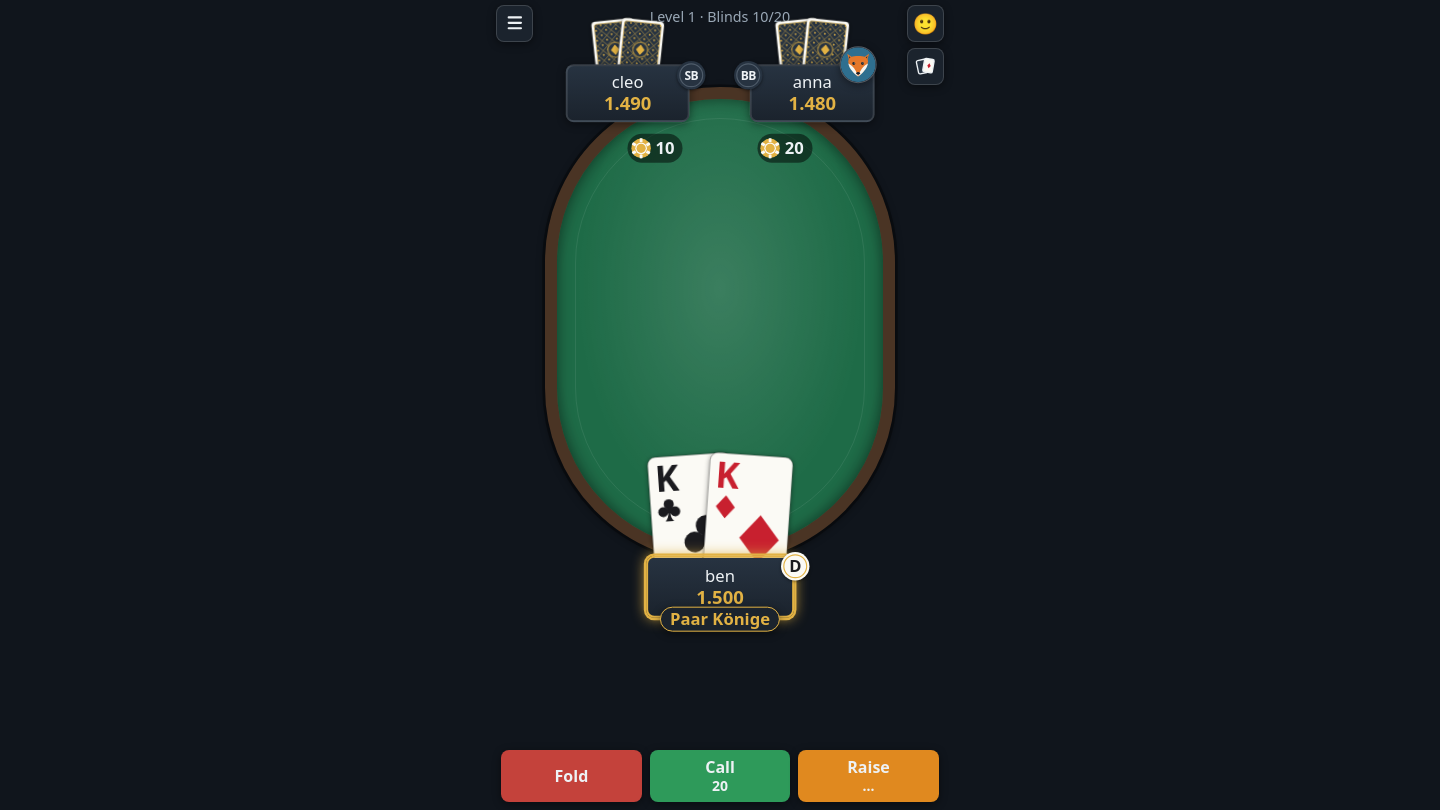
Scenario: GameTable – Avatare und Reaktionen (WP-032) › Sitz zeigt den Avatar; Spieler senden Reaktionen, die über dem Sitz erscheinen
Click the button named "Reaktion senden" at [925, 23], box [907,5,944,42]
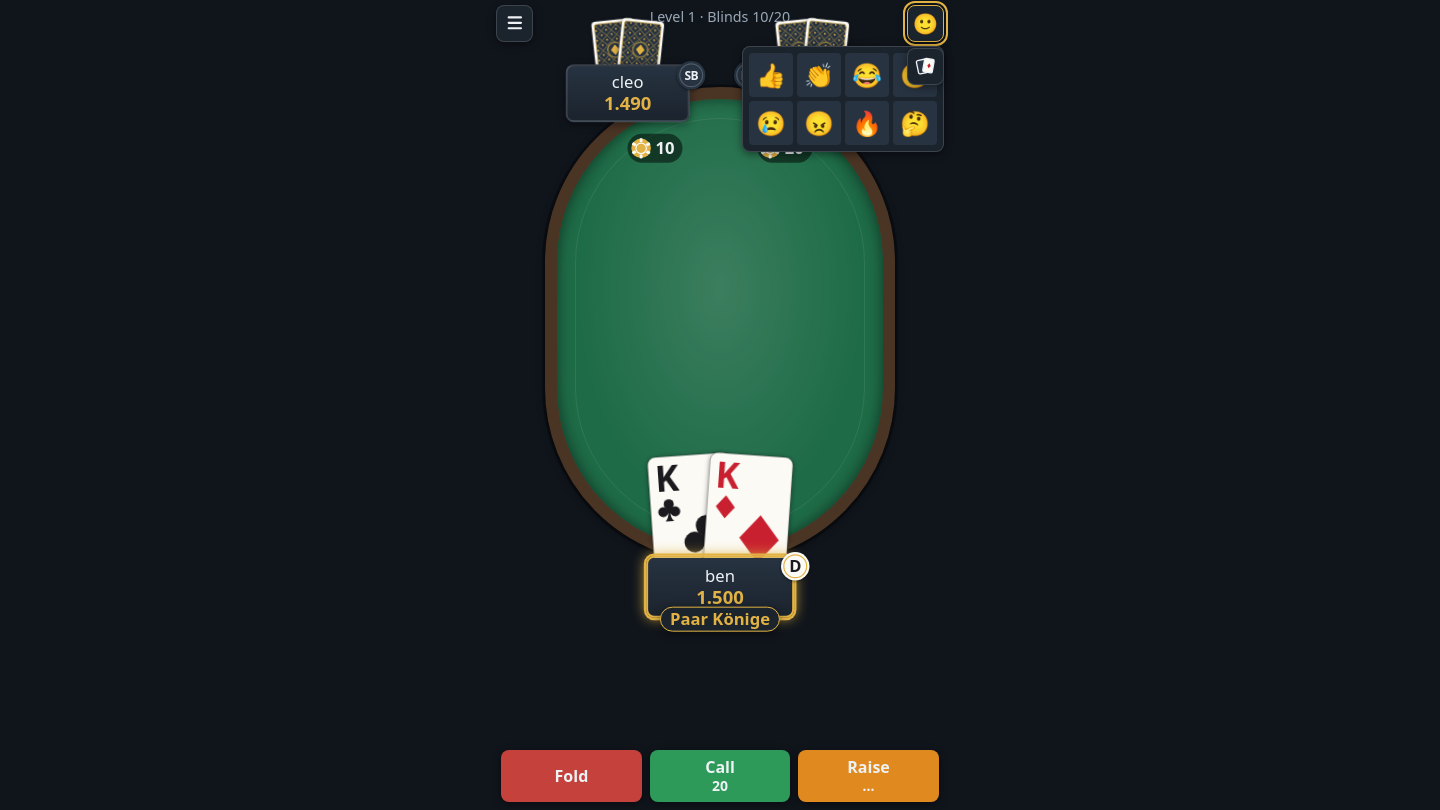
Click the button named "Applaus" at [819, 74], box [797,52,841,96]
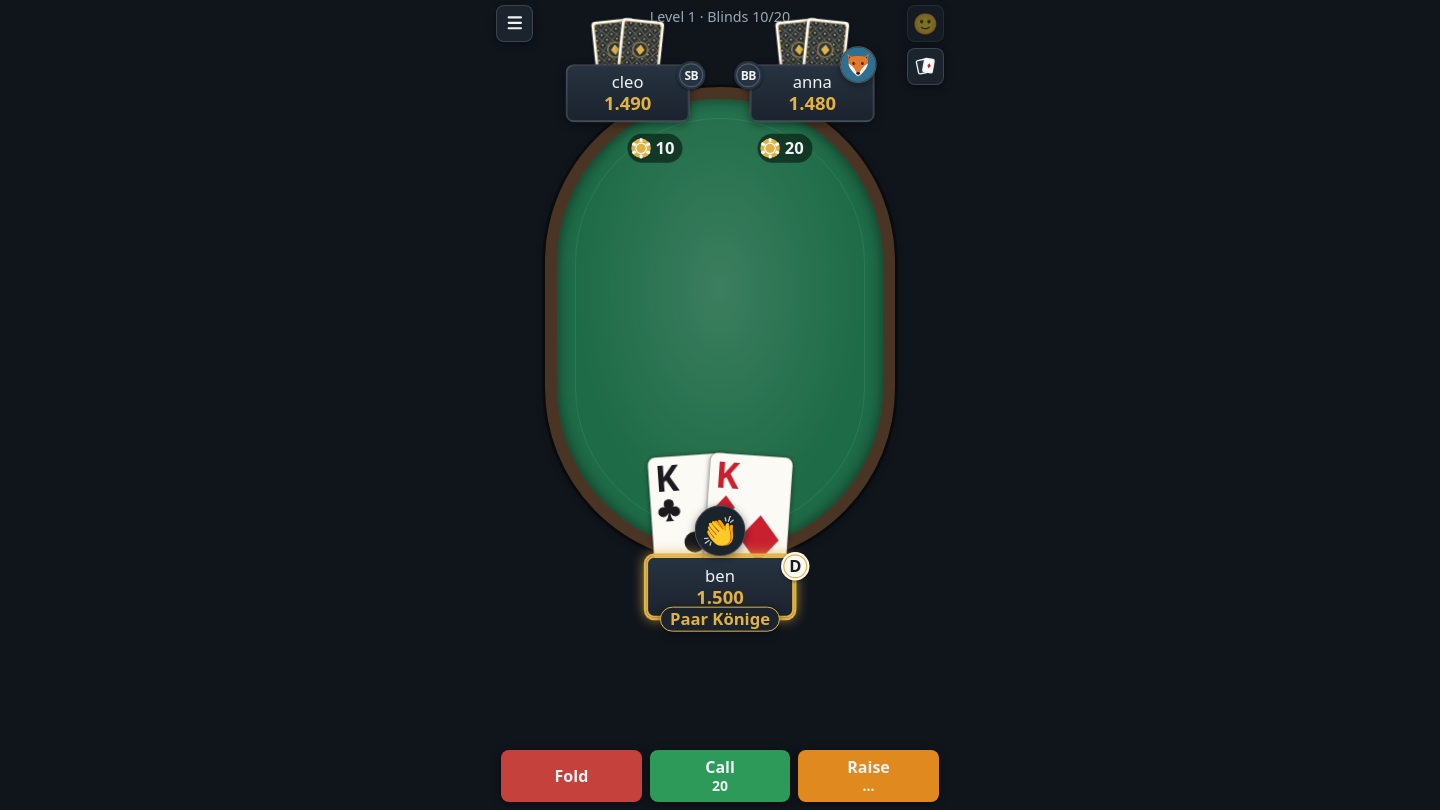
Now the picture with test id "reaction" reads "👏", box [702,510,738,551]
Now the button named "Reaktion senden" is disabled, box [907,5,944,42]
